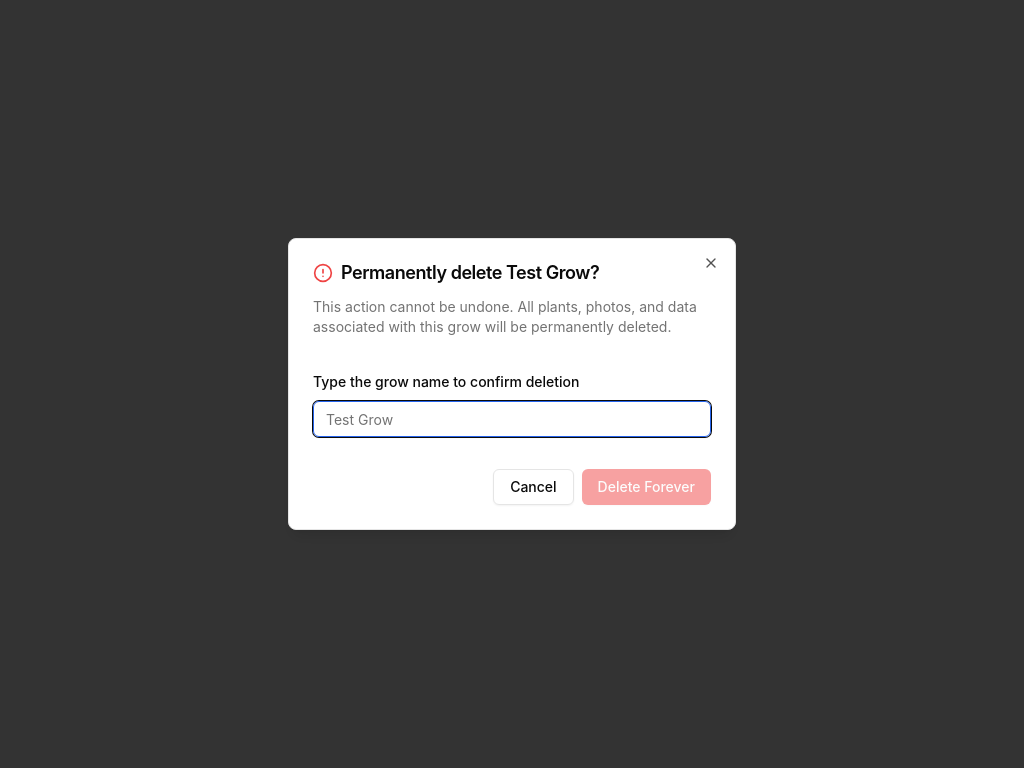
Test: DeleteGrowDialog › delete button is enabled when name matches case-insensitively
Type "test grow" into the field labelled "Type the grow name to confirm deletion" at (512, 419), box [313,401,711,437]
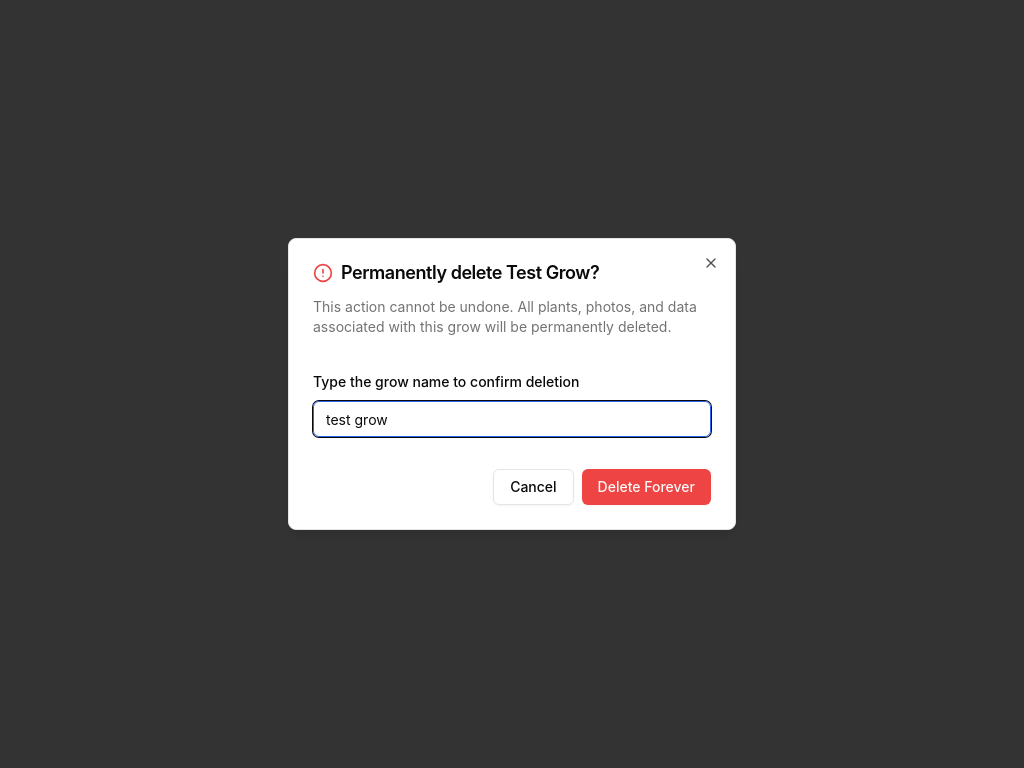
Now the button "Delete Forever" is enabled, box [582,469,711,505]
